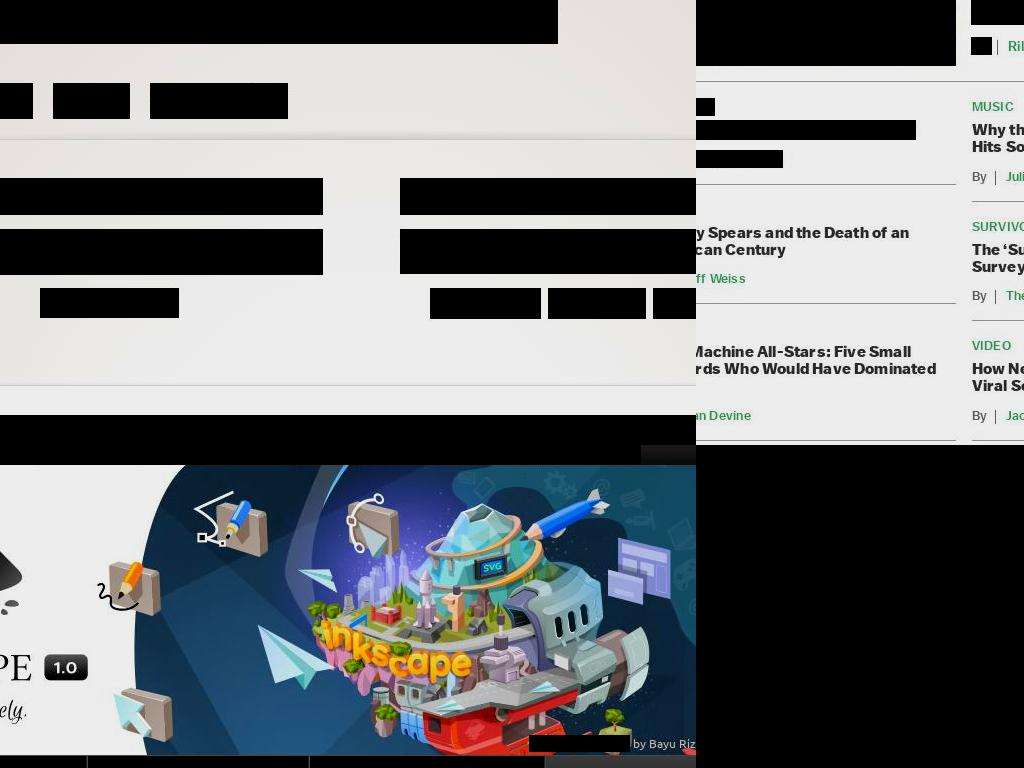button: (696, 0, 956, 66), (400, 229, 696, 274), (150, 83, 288, 119), (40, 288, 179, 318), (430, 288, 541, 319), (548, 288, 646, 319), (53, 83, 130, 119), (357, 445, 462, 465), (194, 445, 297, 465), (540, 445, 641, 465), (40, 445, 139, 465), (461, 445, 541, 465), (653, 288, 696, 319), (296, 445, 358, 465), (0, 83, 33, 119), (138, 445, 195, 465), (0, 445, 41, 465)
field: (0, 229, 323, 275)
heading: (696, 342, 937, 396), (0, 178, 323, 215), (400, 178, 696, 215), (696, 222, 910, 259), (696, 120, 916, 140), (971, 120, 1024, 157), (971, 239, 1024, 276)
image: (696, 445, 1024, 768), (696, 0, 956, 66)
link: (0, 0, 558, 44), (529, 735, 630, 752)
text: (0, 415, 696, 445), (170, 83, 287, 119), (545, 239, 696, 264), (70, 83, 129, 119), (696, 150, 783, 168), (455, 294, 528, 313), (79, 294, 151, 312), (0, 83, 32, 119), (579, 294, 633, 313), (696, 406, 752, 424), (971, 217, 1024, 235), (696, 270, 747, 288), (971, 98, 1014, 116), (971, 337, 1011, 355), (971, 37, 992, 55), (696, 98, 715, 116), (971, 167, 990, 185), (1005, 167, 1024, 185), (971, 287, 990, 305), (971, 406, 990, 424), (1005, 406, 1024, 424)
